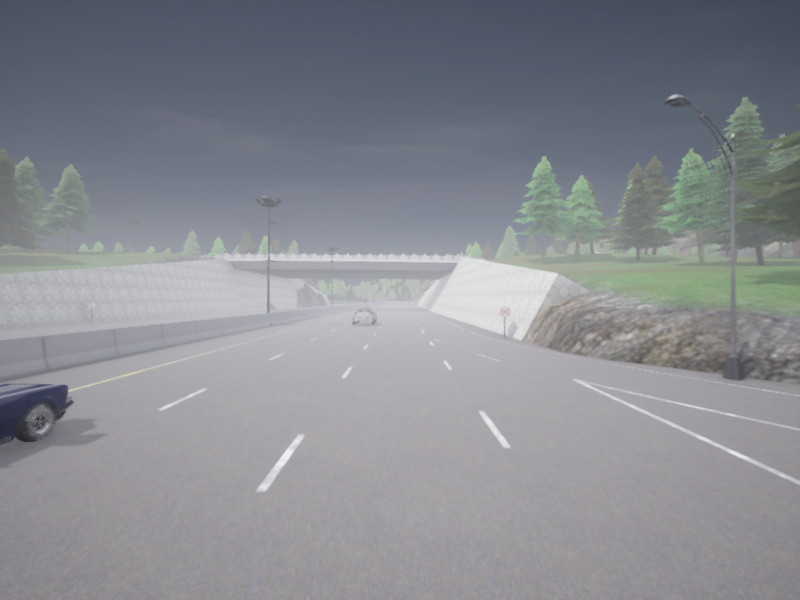vehicle: (0, 384, 73, 444), (353, 308, 376, 324)
